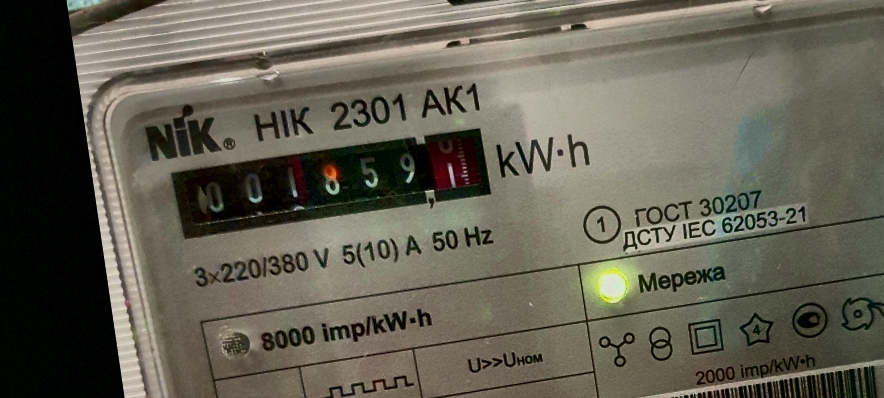0: (202, 177, 227, 215), (241, 169, 265, 205)
1: (284, 163, 300, 200), (442, 158, 459, 190)
5: (357, 152, 382, 190)
8: (319, 160, 343, 197)
9: (395, 149, 419, 185)
screen: (158, 113, 503, 251)
